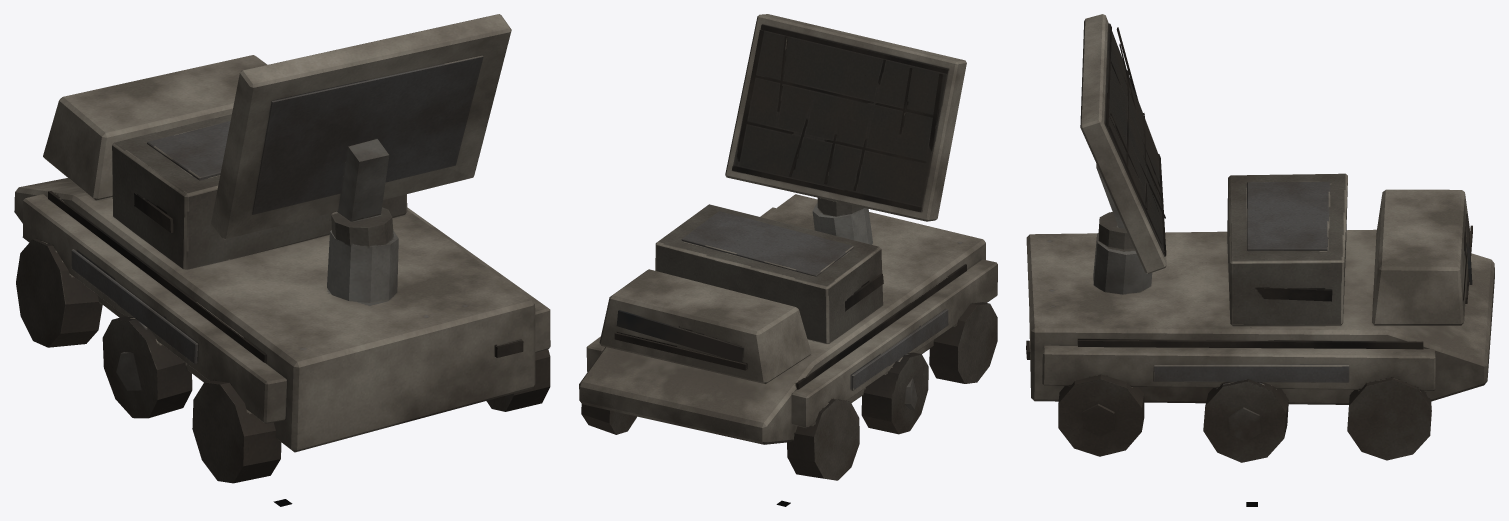
Rendered from ord_arbiter_wreck.fbx.
3 views of the same model, side by side, from view 1: azimuth 30°, elevation 25°; view 2: azimuth 150°, elevation 25°; view 3: azimuth 270°, elevation 25° (orthographic). The views are drawn at different scales.
Parts seen in each view (by area): view 1: base_bar, dish_bar, wheelL1_bar, wheelL2_bar, wheelL3_bar, wheelR3_bar; view 2: base_bar, dish_bar, wheelL1_bar, wheelL3_bar, wheelL2_bar, wheelR1_bar; view 3: base_bar, dish_bar, wheelR2_bar, wheelR3_bar, wheelR1_bar.
Boxes of the visible parts, box(x1,y1,x2,y2) form: base_bar: box(14, 55, 550, 452); dish_bar: box(211, 14, 511, 246); wheelL1_bar: box(16, 239, 102, 347); wheelL2_bar: box(102, 316, 192, 418); wheelL3_bar: box(192, 380, 281, 483); wheelR3_bar: box(486, 349, 550, 411); base_bar: box(579, 194, 997, 444); dish_bar: box(725, 14, 966, 221); wheelL1_bar: box(787, 399, 859, 480); wheelL3_bar: box(929, 302, 997, 383); wheelL2_bar: box(861, 352, 928, 434); wheelR1_bar: box(581, 404, 636, 434); base_bar: box(1026, 173, 1494, 404); dish_bar: box(1080, 14, 1166, 273); wheelR2_bar: box(1203, 379, 1288, 462); wheelR3_bar: box(1058, 374, 1144, 456); wheelR1_bar: box(1347, 377, 1431, 460).
Bounding box in the file's own units: 529 × 827 × 803.
Materials: 2 (2 with a texture image).
